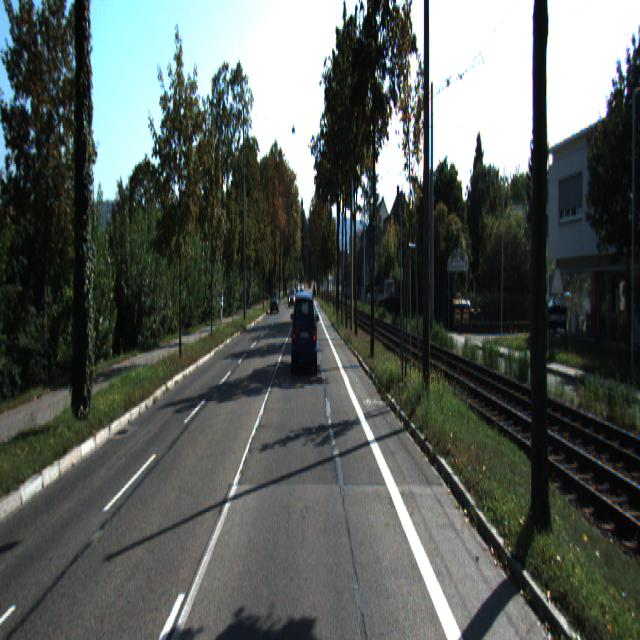Car: (291, 296, 319, 382), (270, 289, 280, 313)
